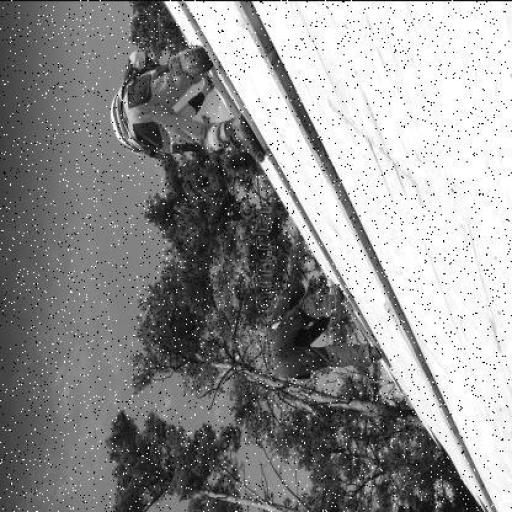safety_shoe: (226, 114, 261, 162), (162, 44, 213, 72), (330, 282, 342, 316), (365, 345, 383, 364)
